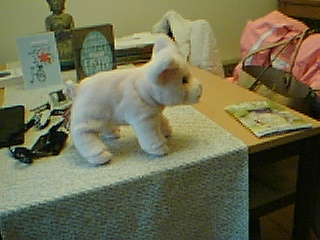piggy: (63, 33, 204, 169)
